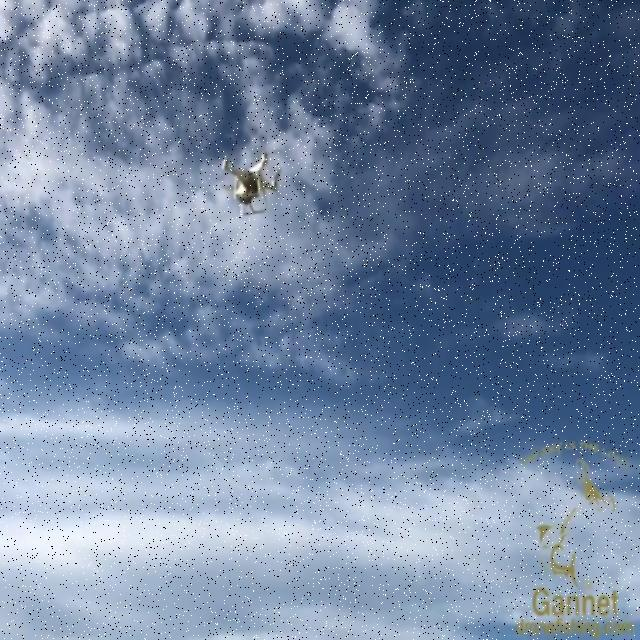UAV: (221, 152, 282, 215)
